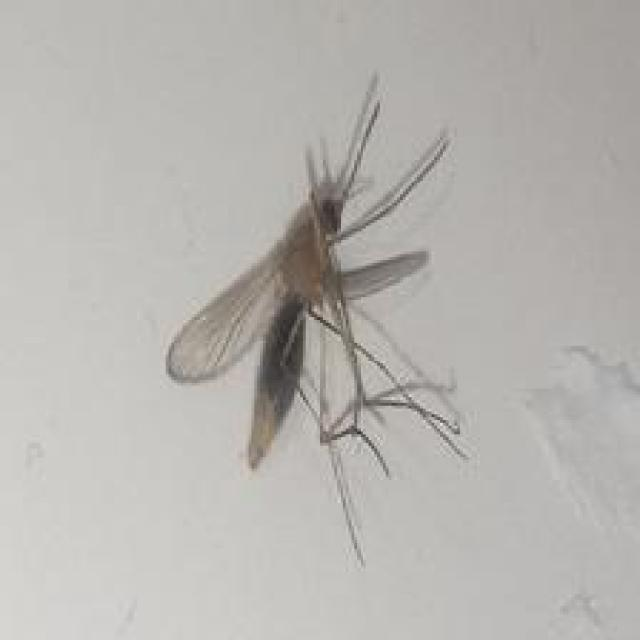Culex: (164, 70, 470, 564)
